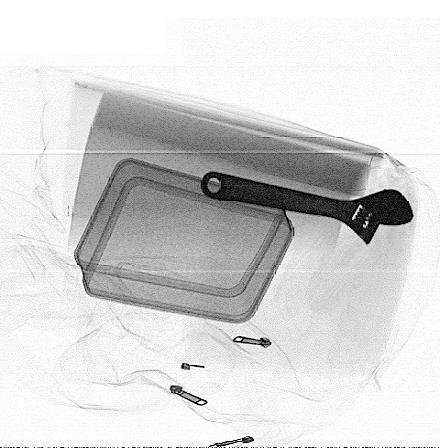Wrench: (198, 170, 412, 248)
